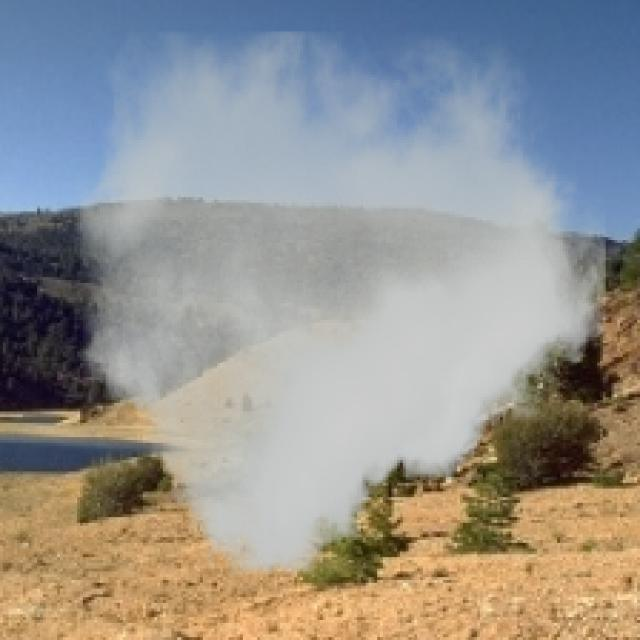Smoke: (74, 32, 606, 574)
